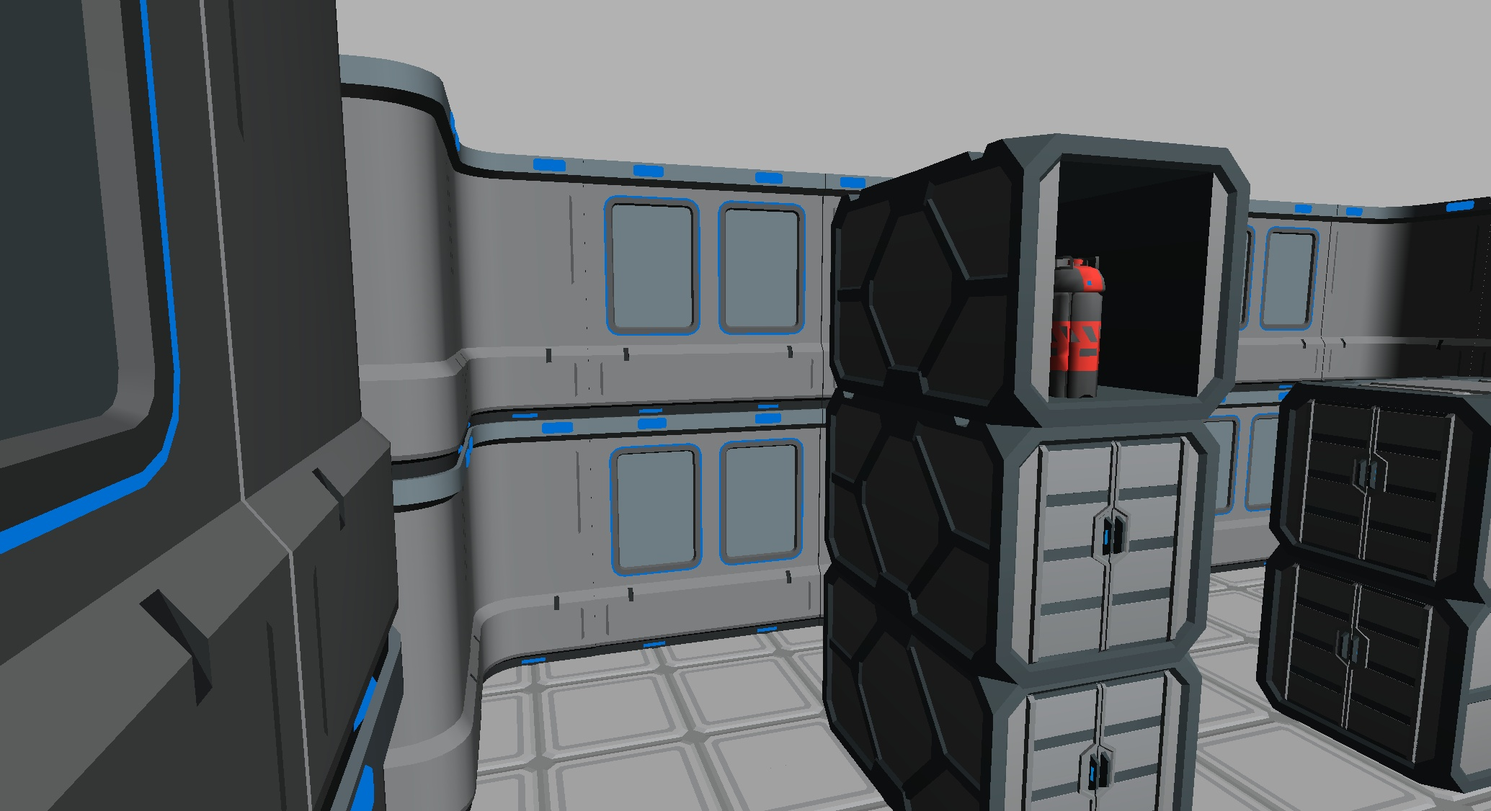red_barrel: (1049, 258, 1105, 397)
